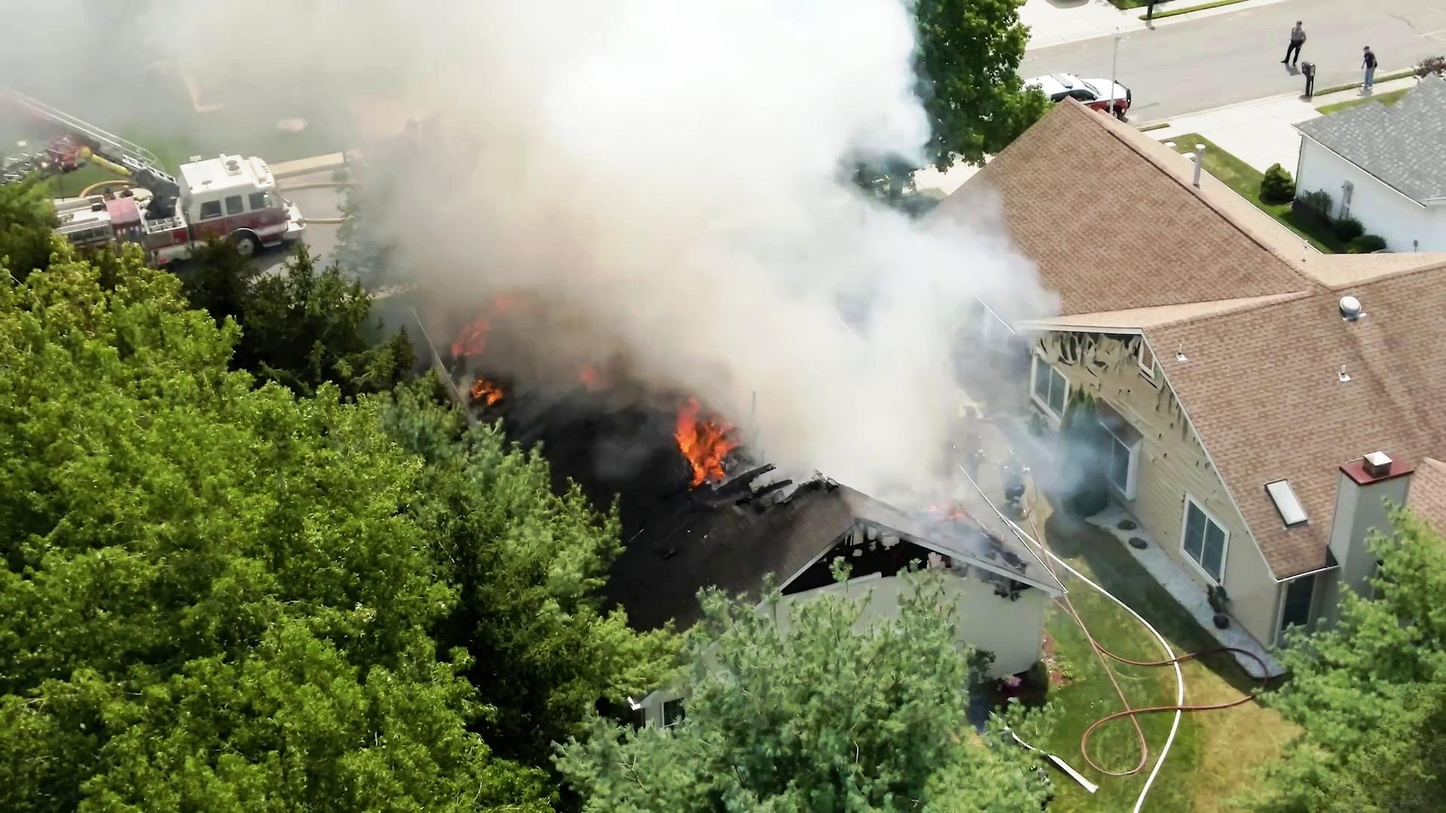fire: (662, 407, 740, 492)
smoke: (569, 0, 959, 226)
